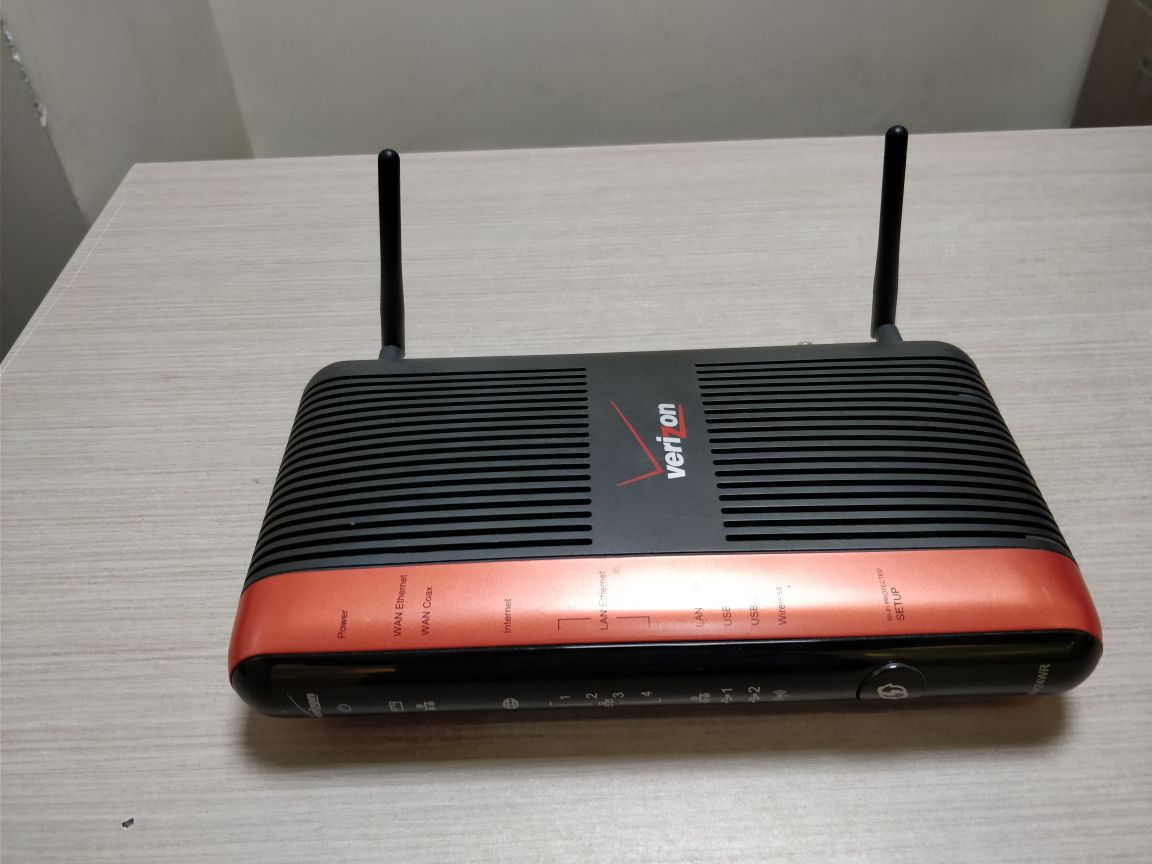Verizon Router: (194, 138, 1143, 805)
